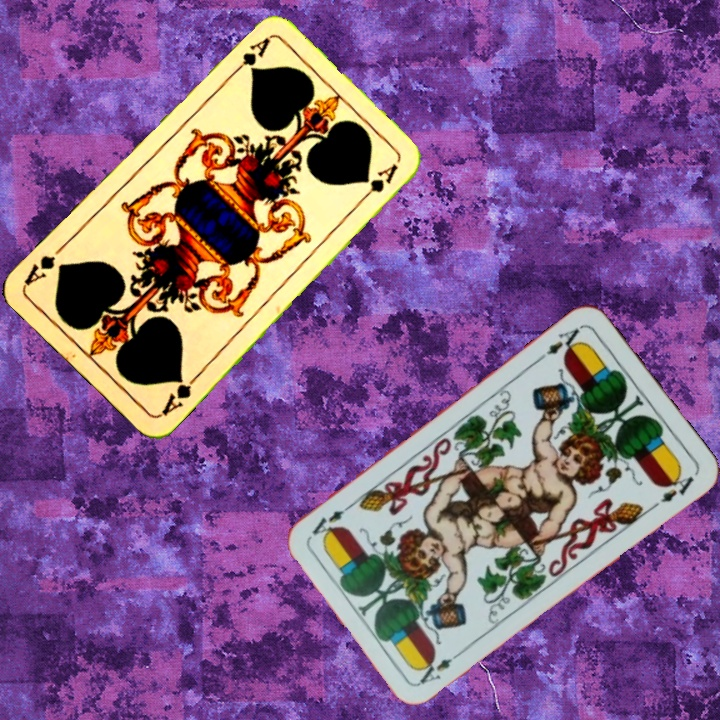EA: (415, 646, 467, 687), (534, 322, 584, 364)
GA: (225, 33, 273, 80), (157, 370, 202, 419)
